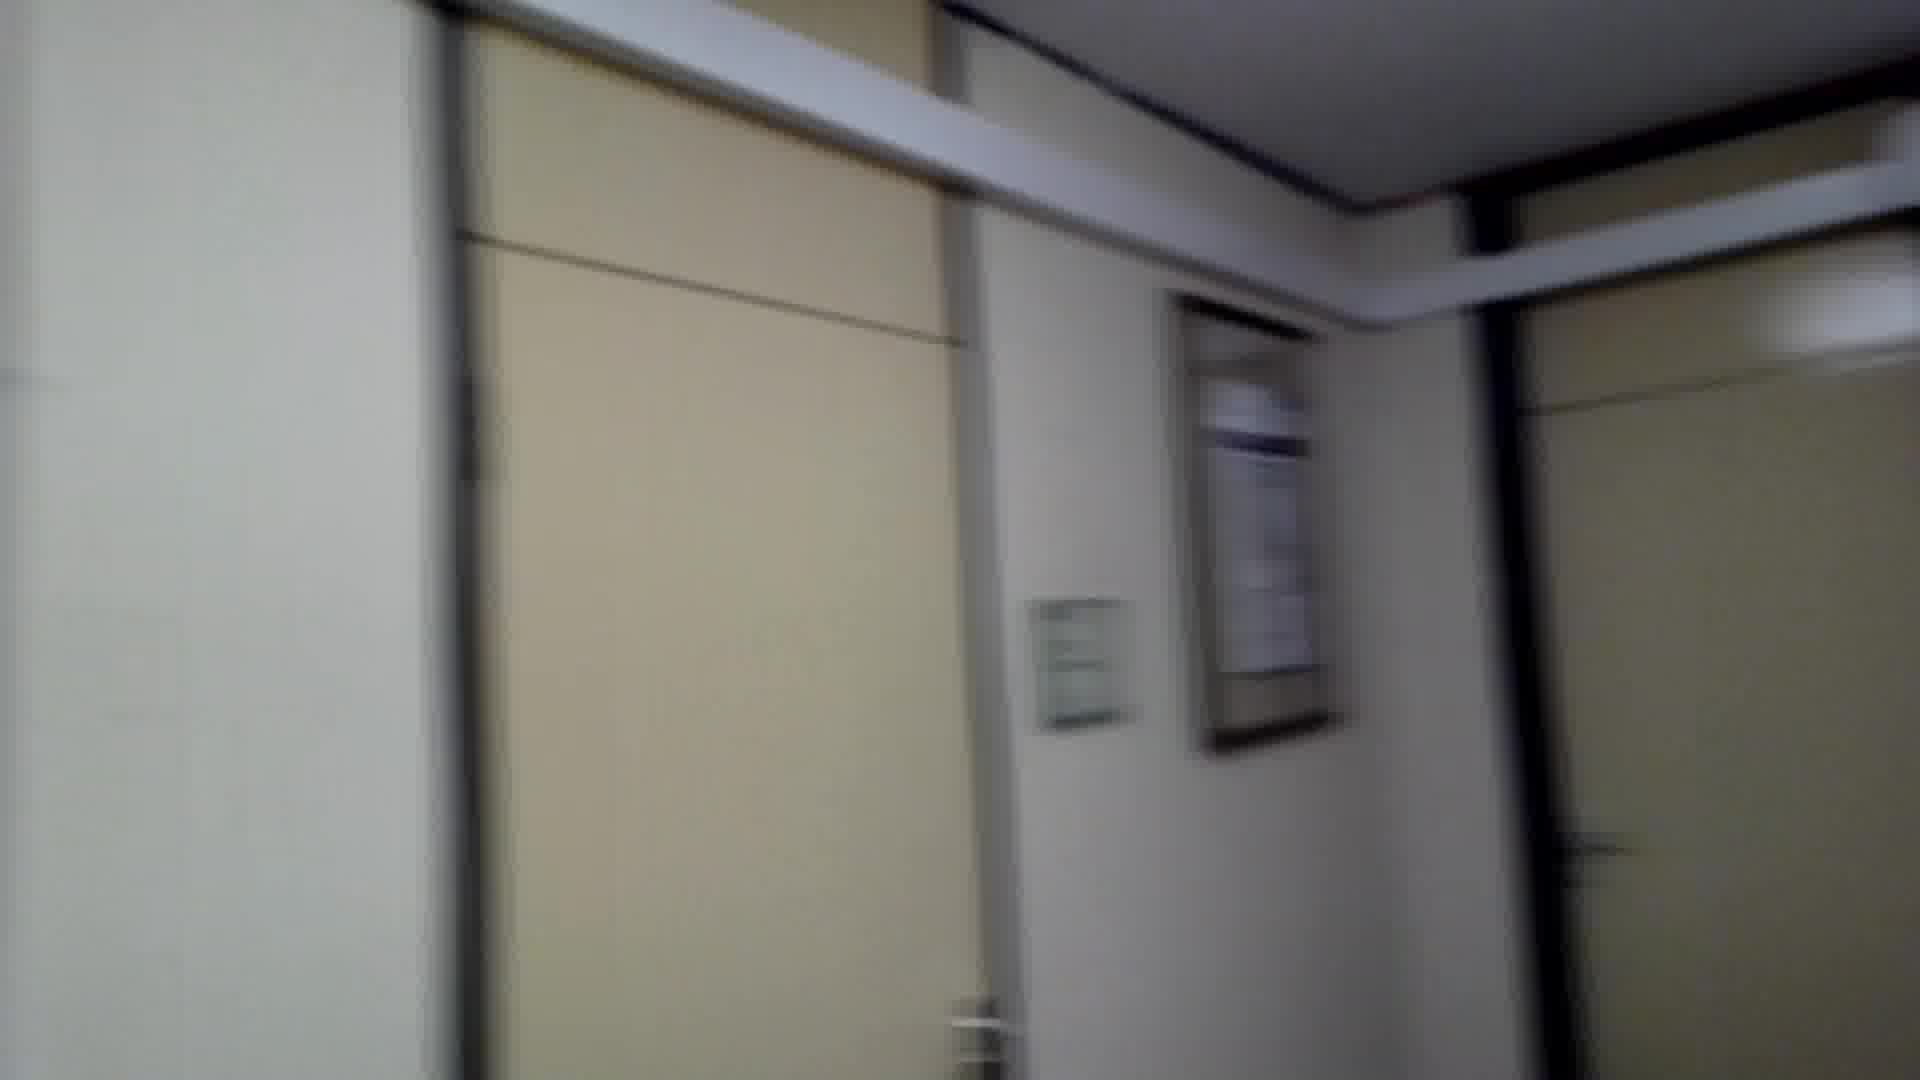Door: (397, 207, 1044, 1080)
